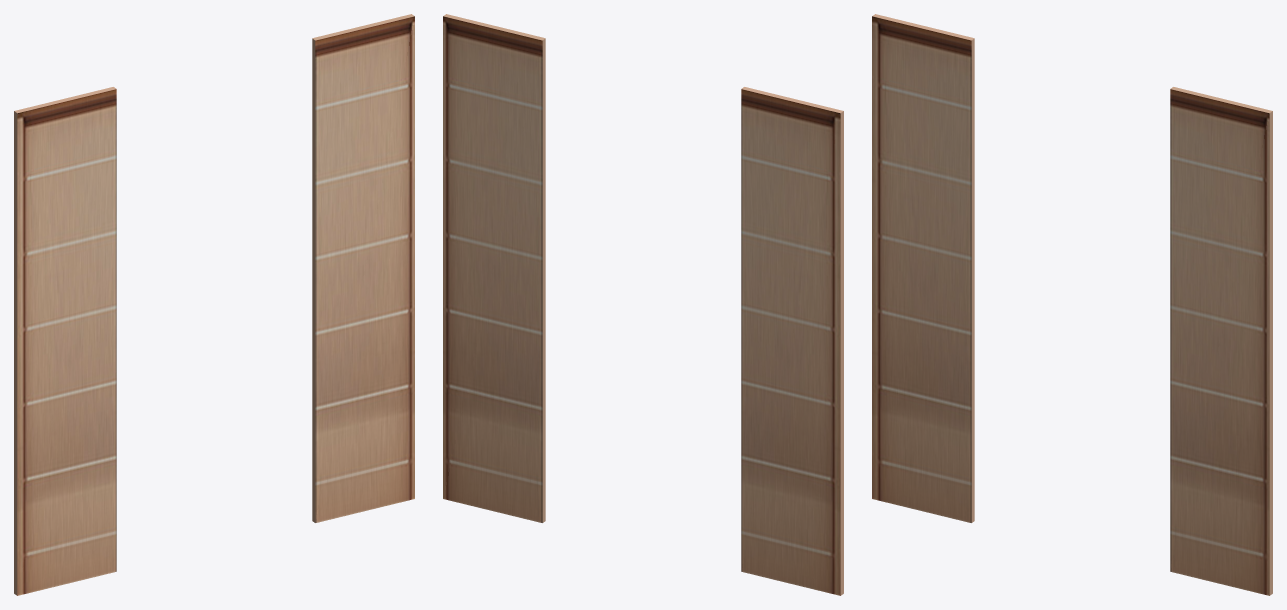
The model's file is landing_door_TM025.glb.
The picture shows the model from 3 angles, left to right: view 1: azimuth 30°, elevation 25°; view 2: azimuth 150°, elevation 25°; view 3: azimuth 330°, elevation 25°; orthographic projection.
Visible parts, largest first — view 1: Landing_Door_L, Landing_Door_R; view 2: Landing_Door_L, Landing_Door_R; view 3: Landing_Door_L, Landing_Door_R.
Boxes of the visible parts, x1,y1,x2,y2 form: Landing_Door_L: (14, 87, 116, 595); Landing_Door_R: (312, 14, 414, 522); Landing_Door_L: (741, 87, 843, 595); Landing_Door_R: (443, 14, 545, 522); Landing_Door_L: (872, 14, 974, 522); Landing_Door_R: (1170, 87, 1272, 595).
Bounding box in the file's own units: 1.81 × 2.1 × 0.025.
1 material, 1 textured.
